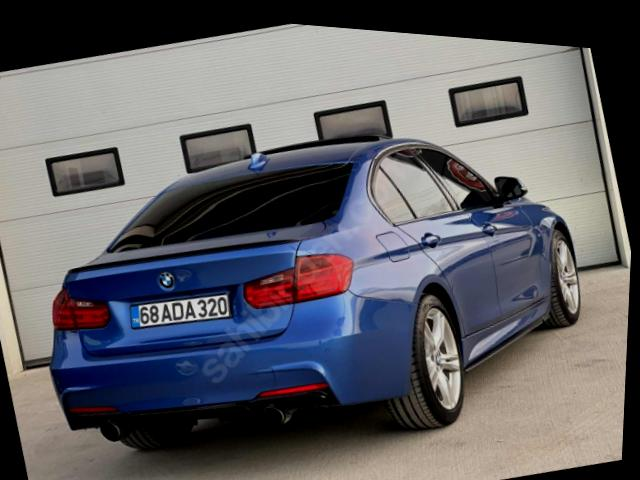plaka: (131, 293, 230, 328)
